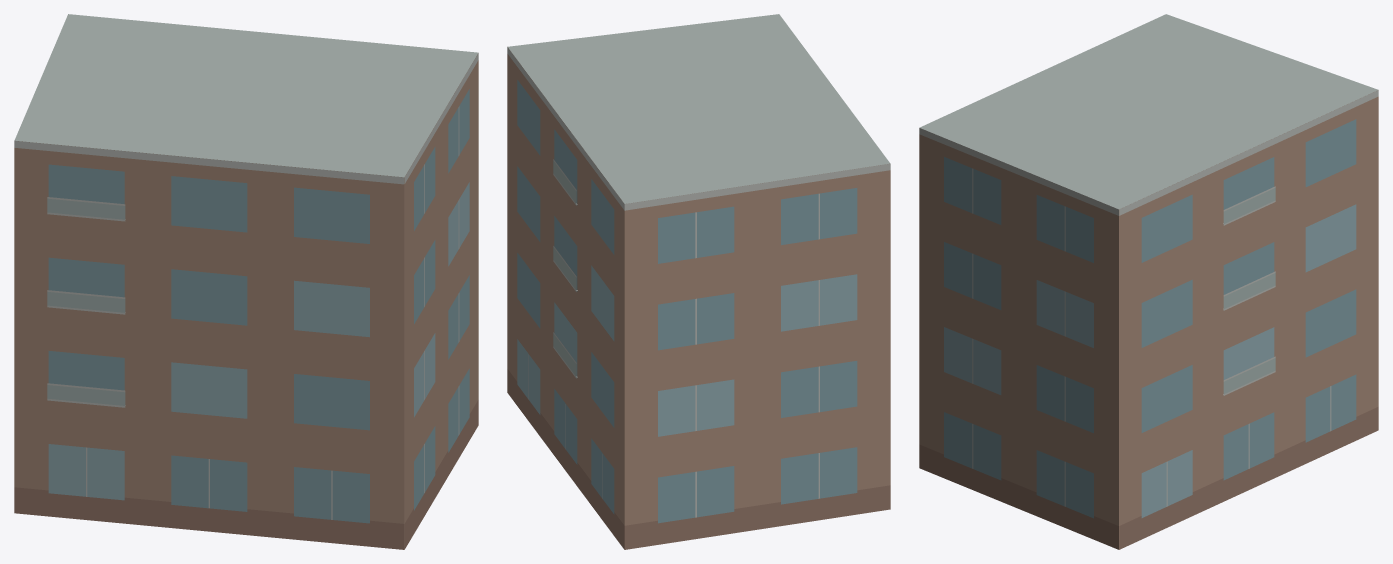
Rendered from survey-upis-32746564.glb.
3 views of the same model, side by side, from view 1: azimuth 30°, elevation 25°; view 2: azimuth 150°, elevation 25°; view 3: azimuth 270°, elevation 25° (orthographic). The views are drawn at different scales.
Parts seen in each view (by area): view 1: survey-upis-32746564.tmp; view 2: survey-upis-32746564.tmp; view 3: survey-upis-32746564.tmp.
Part boxes in pixels (x1,y1,x2,y2): survey-upis-32746564.tmp: (14,14,478,549); survey-upis-32746564.tmp: (507,14,890,549); survey-upis-32746564.tmp: (919,14,1378,549).
Bounding box in the file's own units: 15.71 × 12.75 × 15.6.
